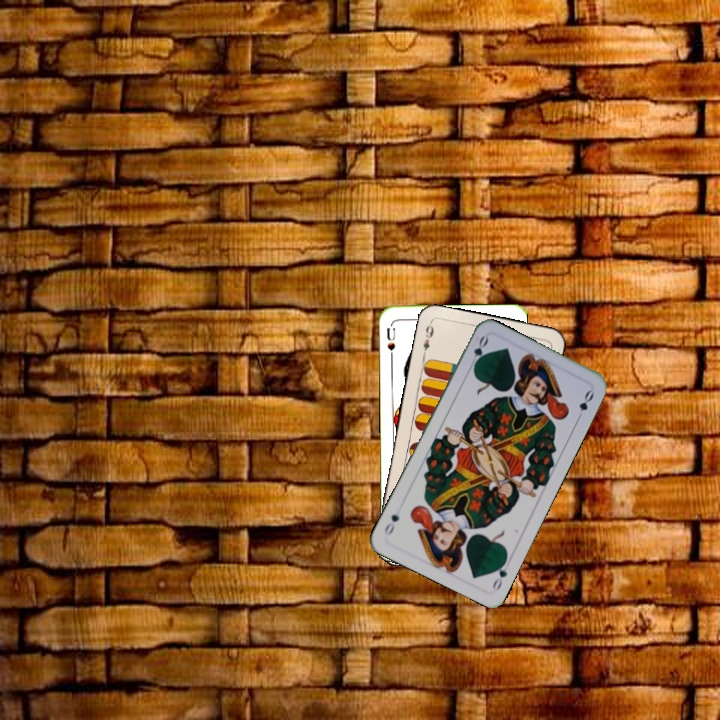E9: (419, 319, 437, 359)
GO: (465, 332, 491, 372), (488, 553, 510, 594)
SU: (383, 324, 398, 360)
